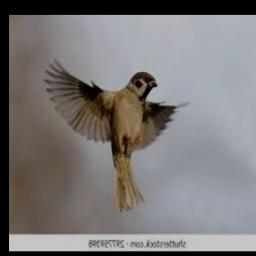Sparrow: (44, 57, 190, 212)
